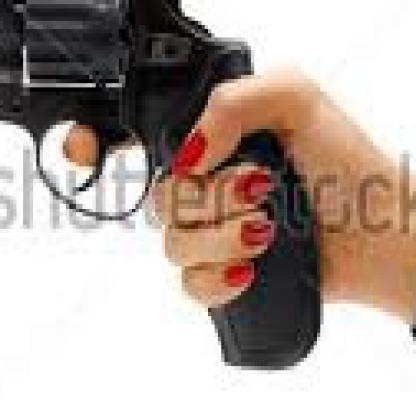gun: (0, 0, 330, 387)
